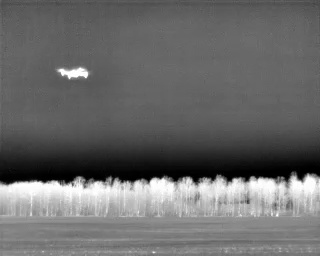DRONE: (52, 61, 93, 84)
